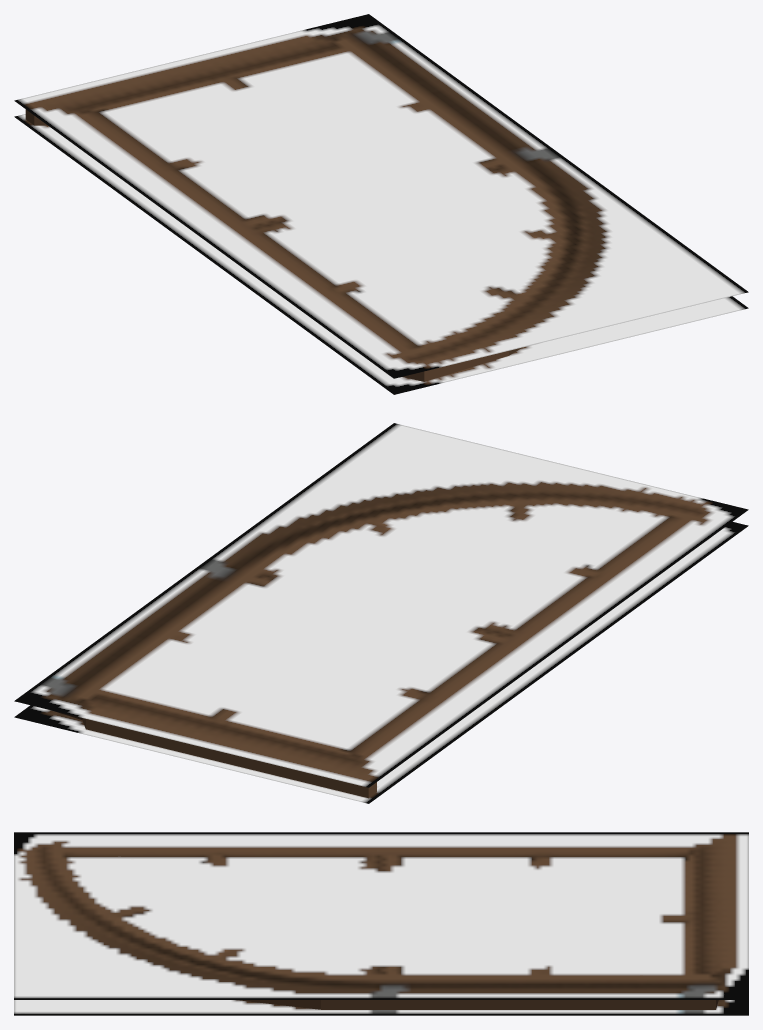
Rendered from pz_native_fixtures_windows_wood_91_frame.obj.
3 views of the same model, one above another, from view 1: azimuth 30°, elevation 25°; view 2: azimuth 150°, elevation 25°; view 3: azimuth 270°, elevation 25° (orthographic). The views are drawn at different scales.
Parts seen in each view (by area): view 1: pz_native_fixtures_windows_wood_91_frame; view 2: pz_native_fixtures_windows_wood_91_frame; view 3: pz_native_fixtures_windows_wood_91_frame.
Boxes of the visible parts, box(x1,y1,x2,y2) form: pz_native_fixtures_windows_wood_91_frame: box(14, 14, 748, 394); pz_native_fixtures_windows_wood_91_frame: box(14, 423, 748, 803); pz_native_fixtures_windows_wood_91_frame: box(14, 832, 748, 1015).
Size of the model in its own units: 0.9219 by 0.04 by 1.71.
1 material, 1 textured.
